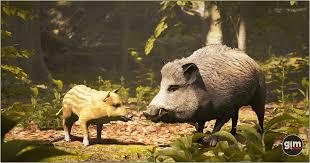wildboar: (141, 43, 268, 148), (54, 82, 135, 147)
